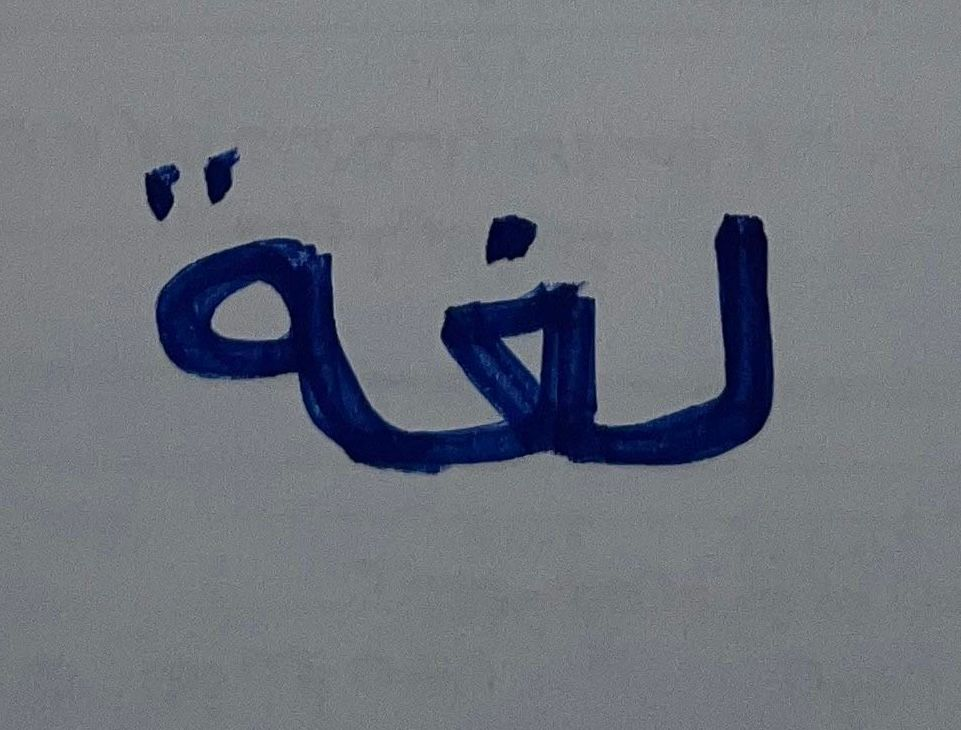khah: (407, 201, 629, 541)
lam: (635, 168, 802, 542)
teh_marbota: (106, 133, 392, 542)
